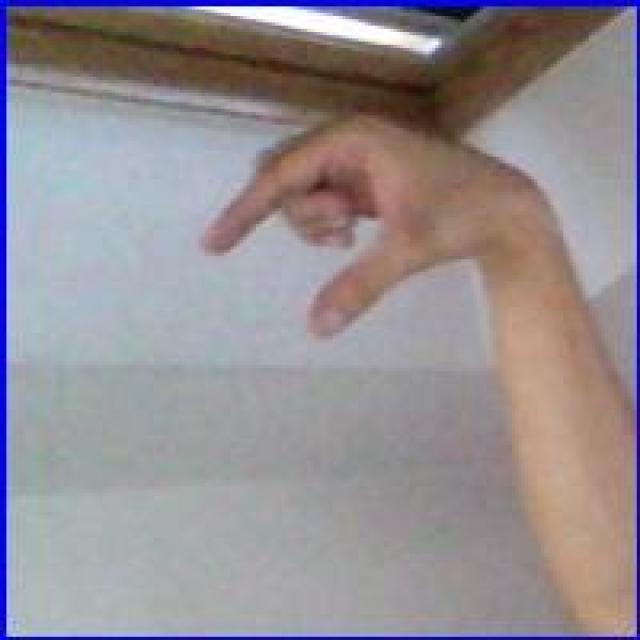Q: (197, 101, 536, 344)
